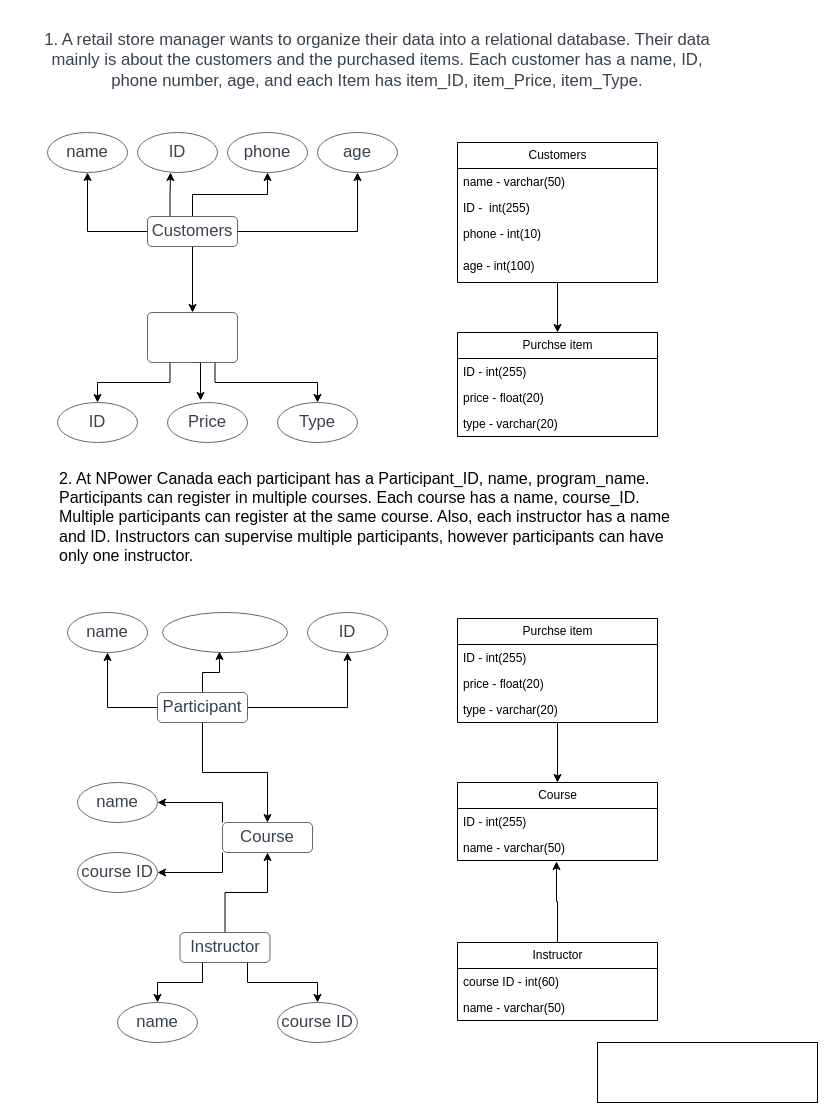
Image size: 835x1120. Some labels were removed from this diagram. The shapes that lost their labels are listed below. From the top down, each one's centre as x and y in pixels, then its label:
At pixel 192 337: "purchase item".
At pixel 224 632: "program_name".
At pixel 707 1072: "Lakshmi Kadali Entity relationship model flow chart and table".
